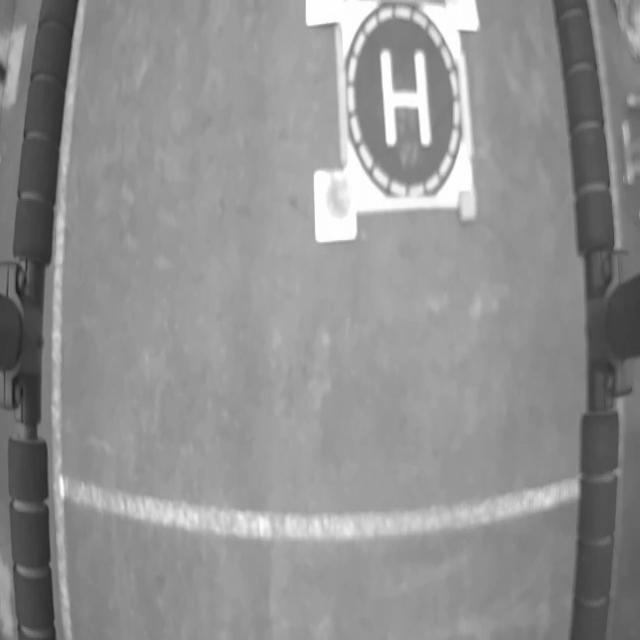Helipad: (380, 48, 432, 148)
